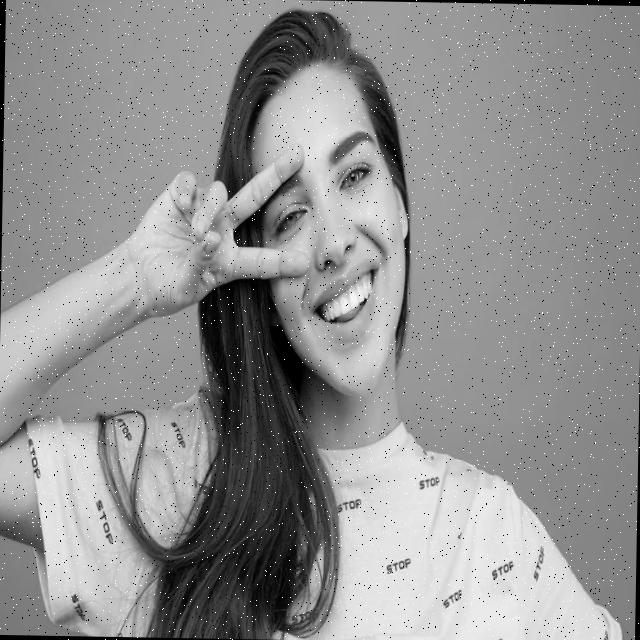Happiness: (244, 64, 411, 403)
